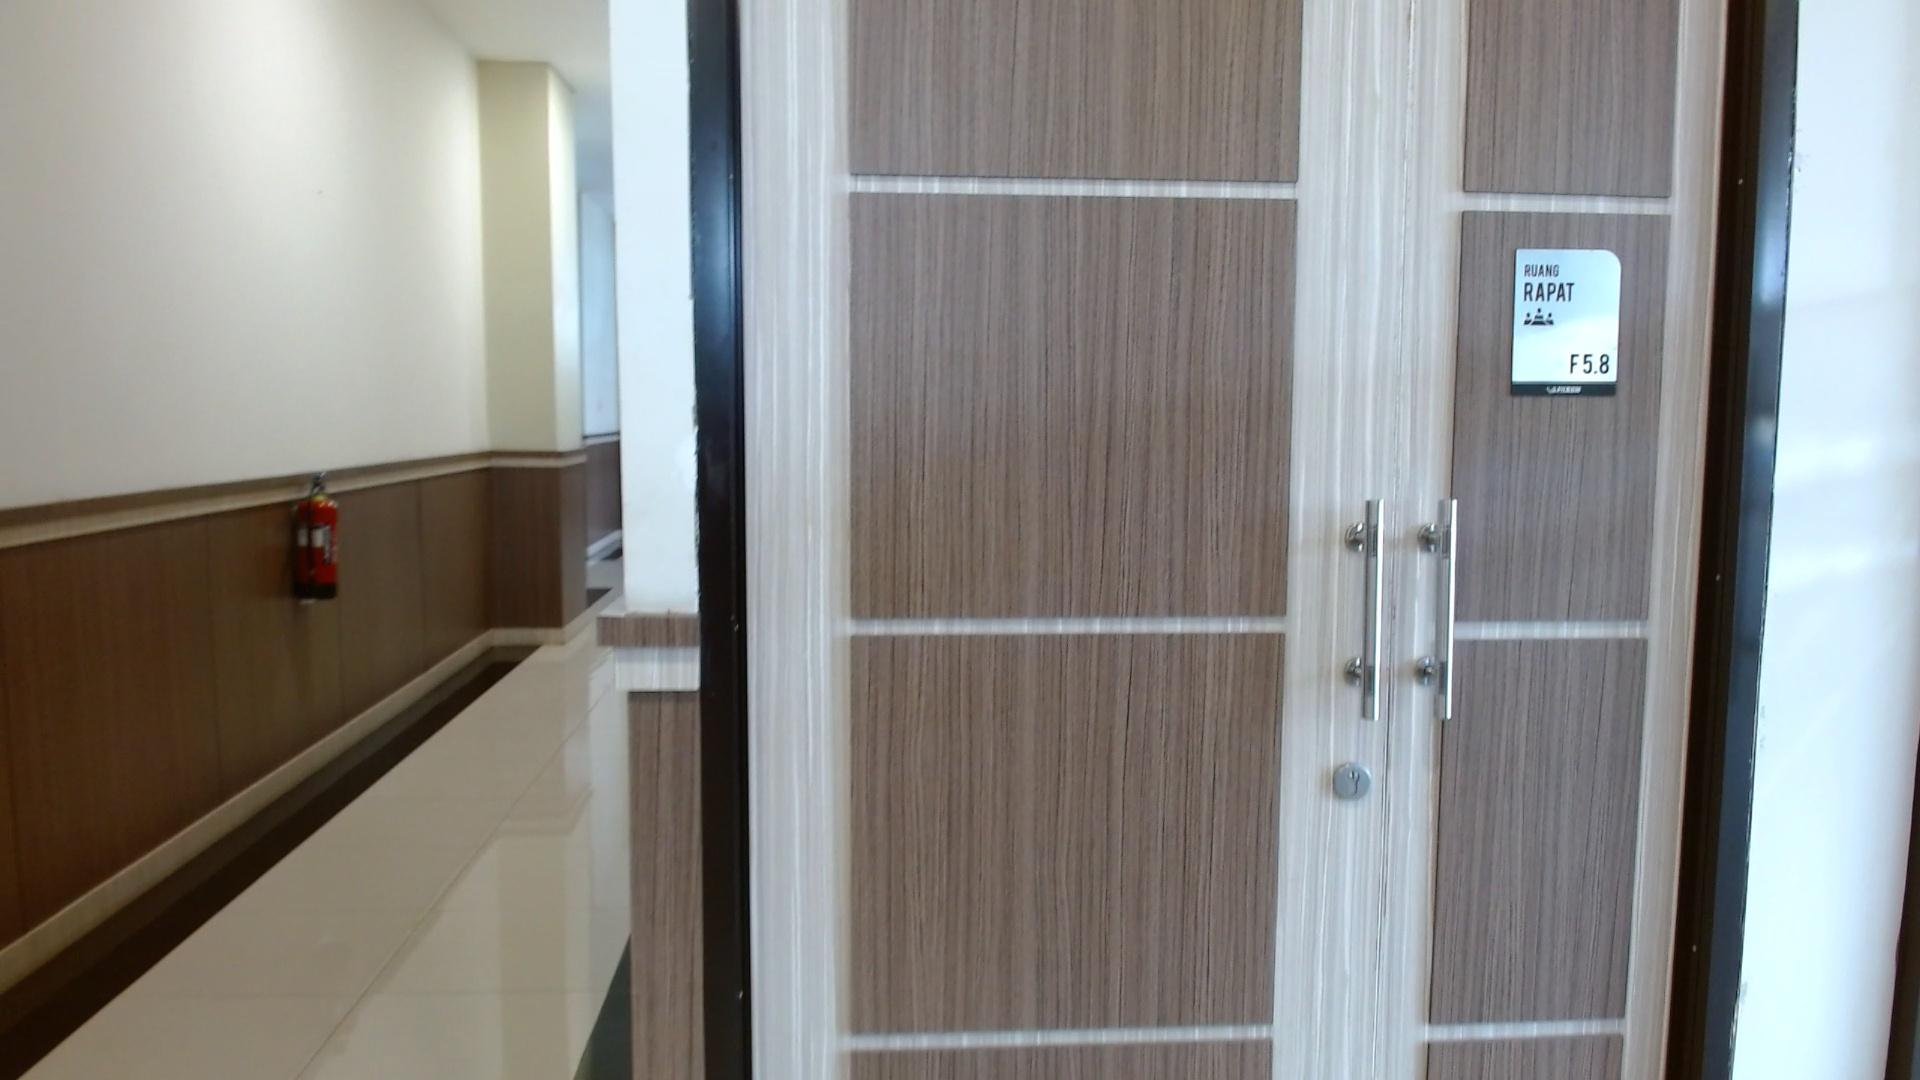plate: (1511, 248, 1623, 397)
